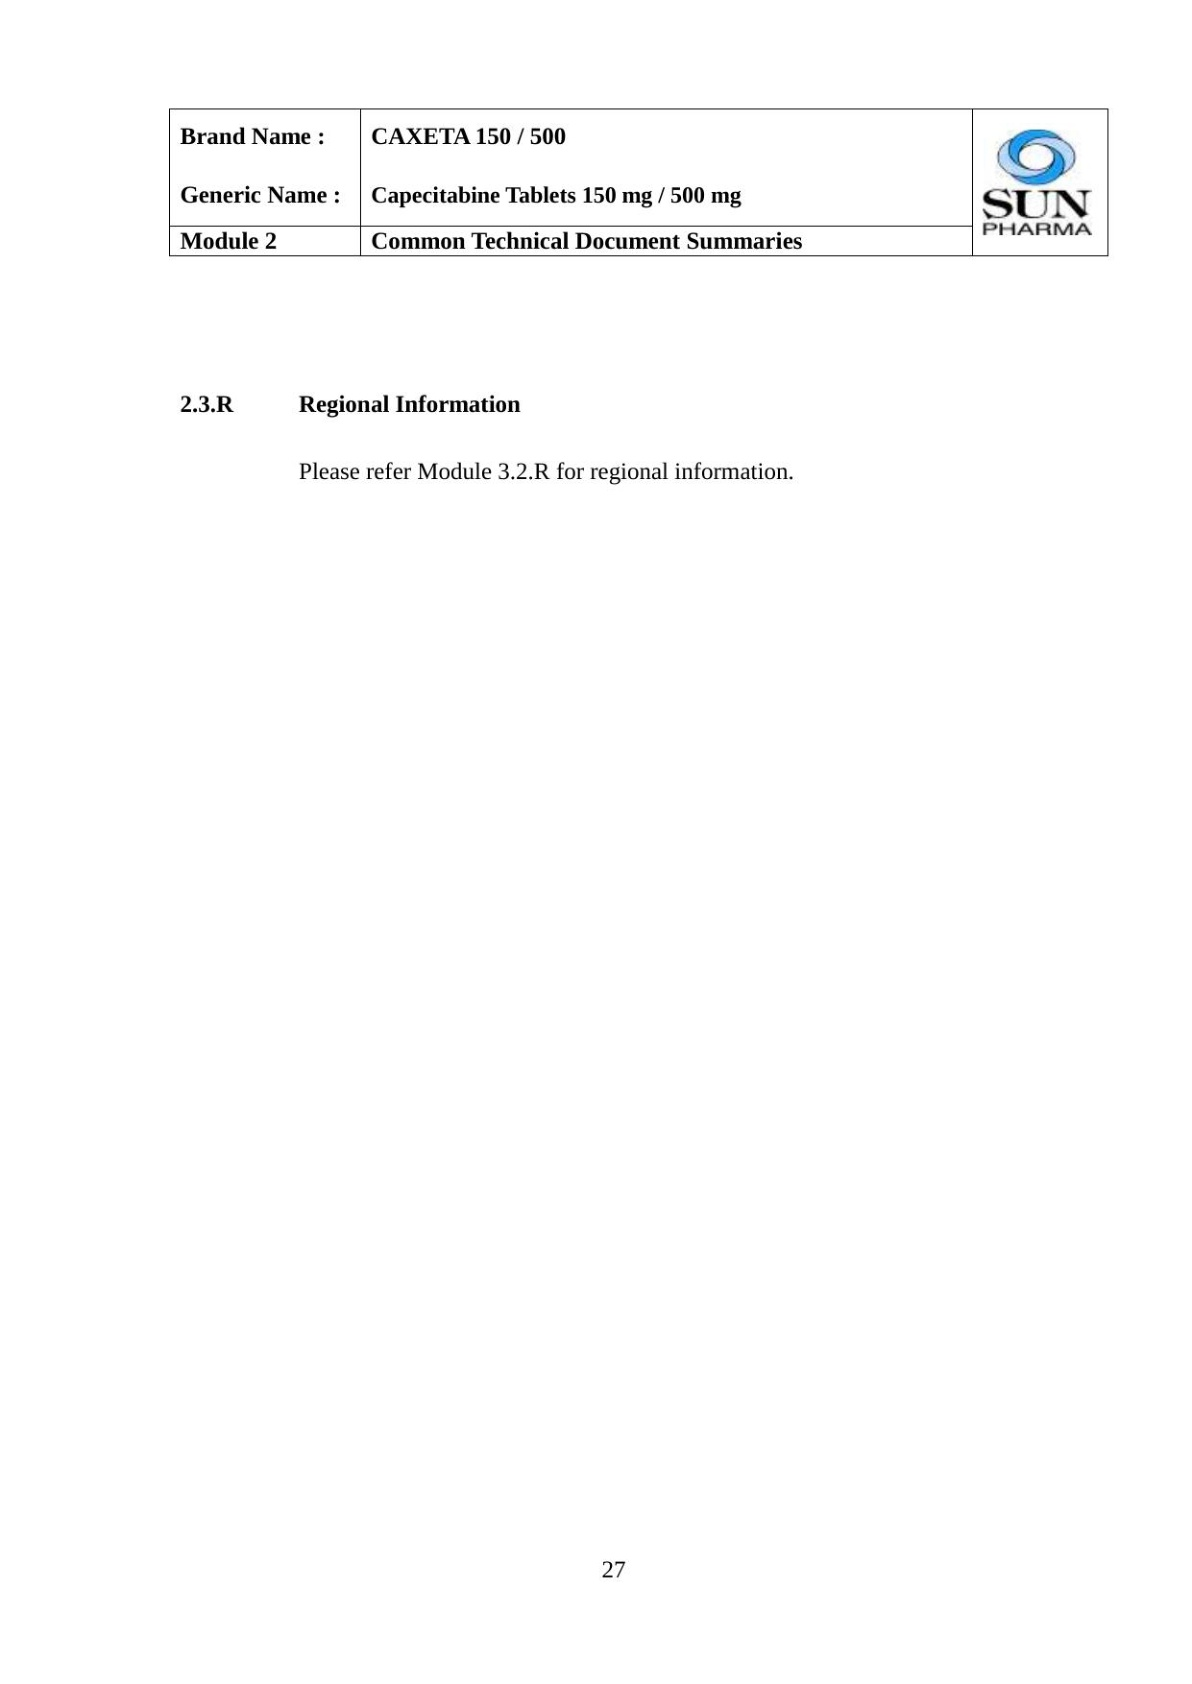merged_cells: (166, 107, 1109, 258)
